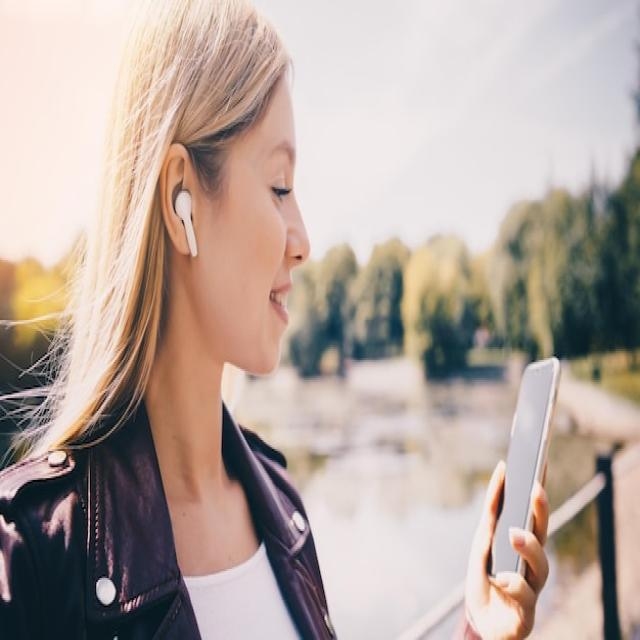airpods: (174, 182, 198, 266)
